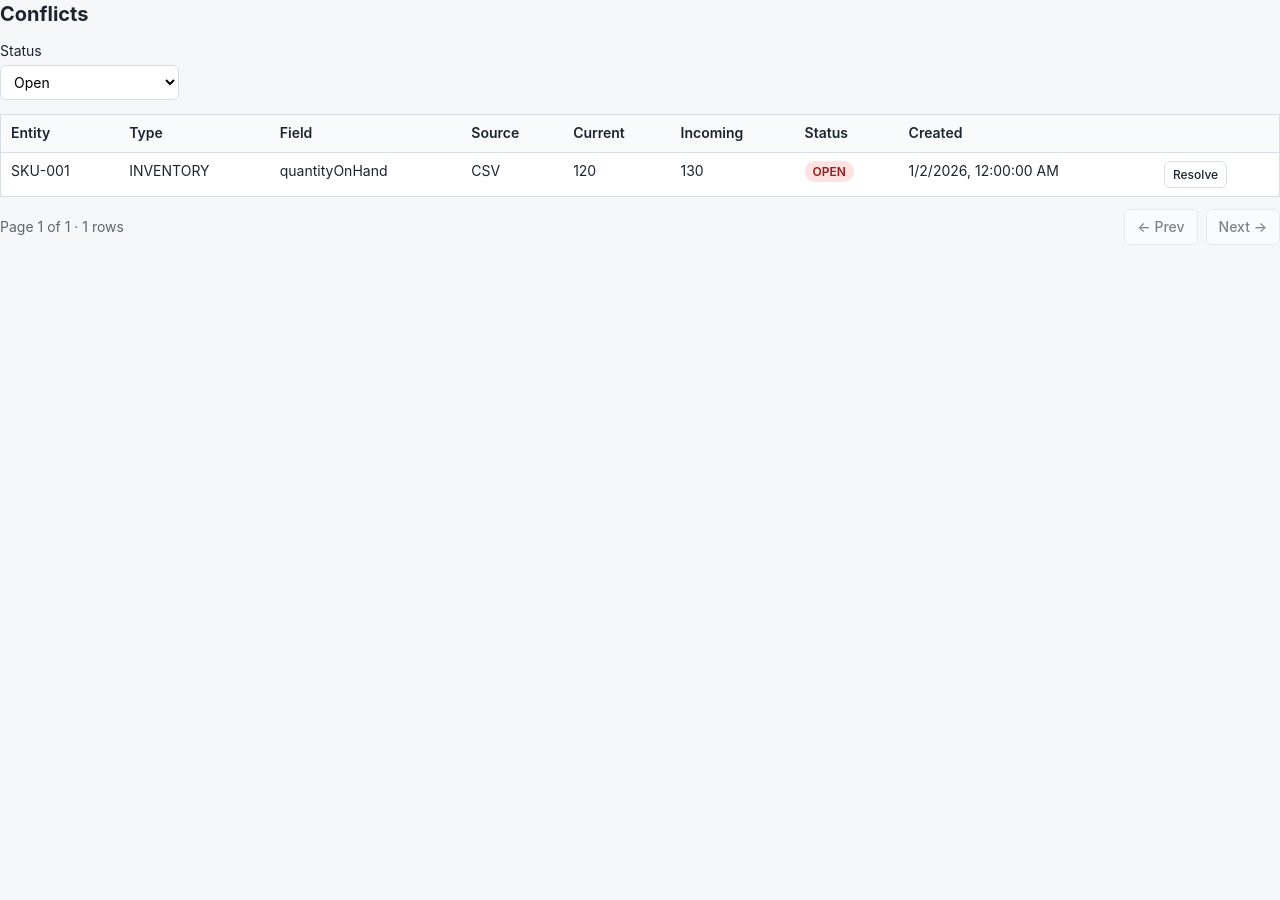
Test: Conflicts page — resolution flow › resolves an open conflict through the modal (apply incoming)
Click the button with test id "resolve-c1".
click(1196, 174)  # box [1164,161,1227,188]
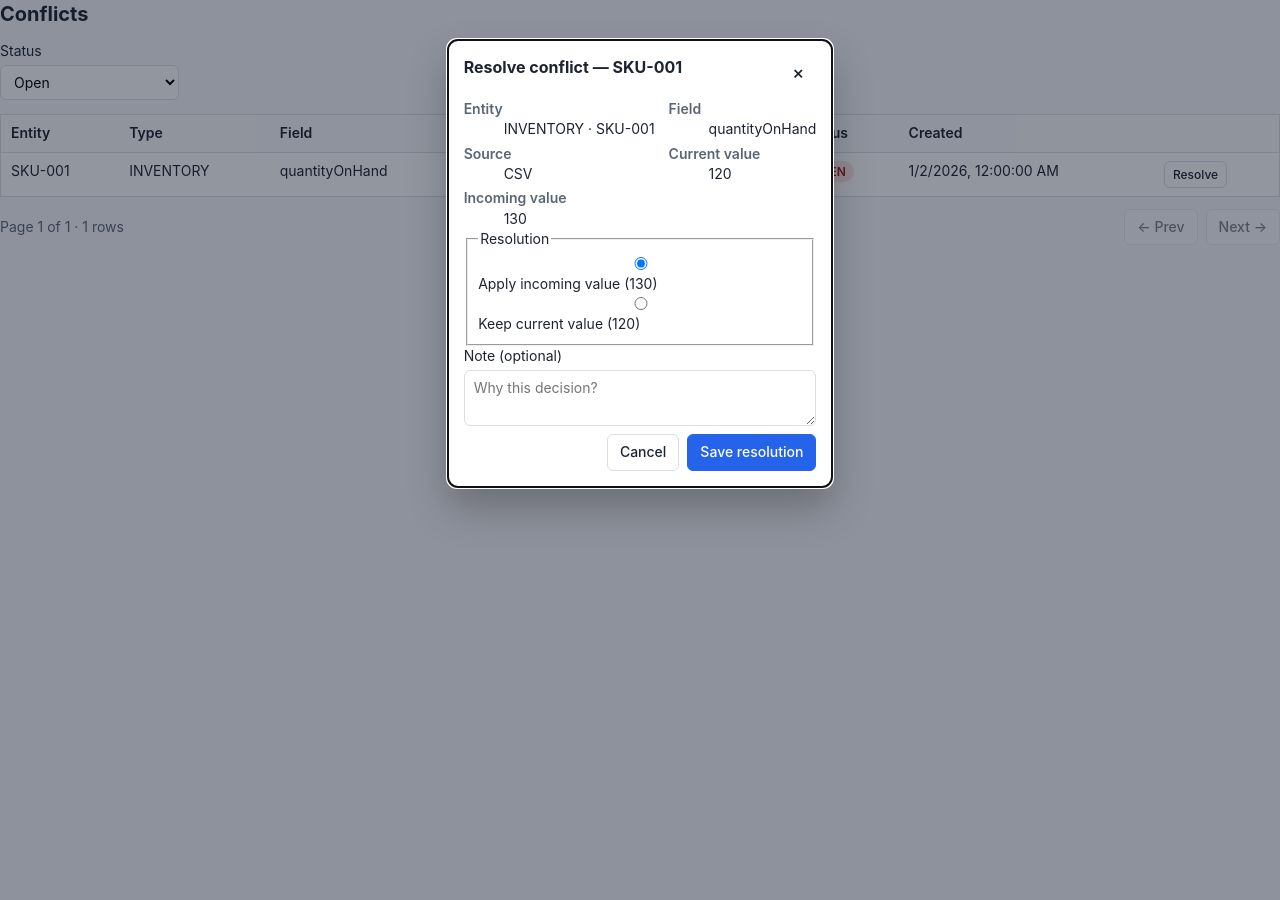
Expected: the dialog shows "SKU-001", [596,120,655,138]
Expected: the dialog shows "quantityOnHand", [709,120,816,138]
Expected: the dialog shows "130", [504,210,527,227]
Click the button with test id "resolve-submit".
click(752, 453)  # box [687,434,816,471]
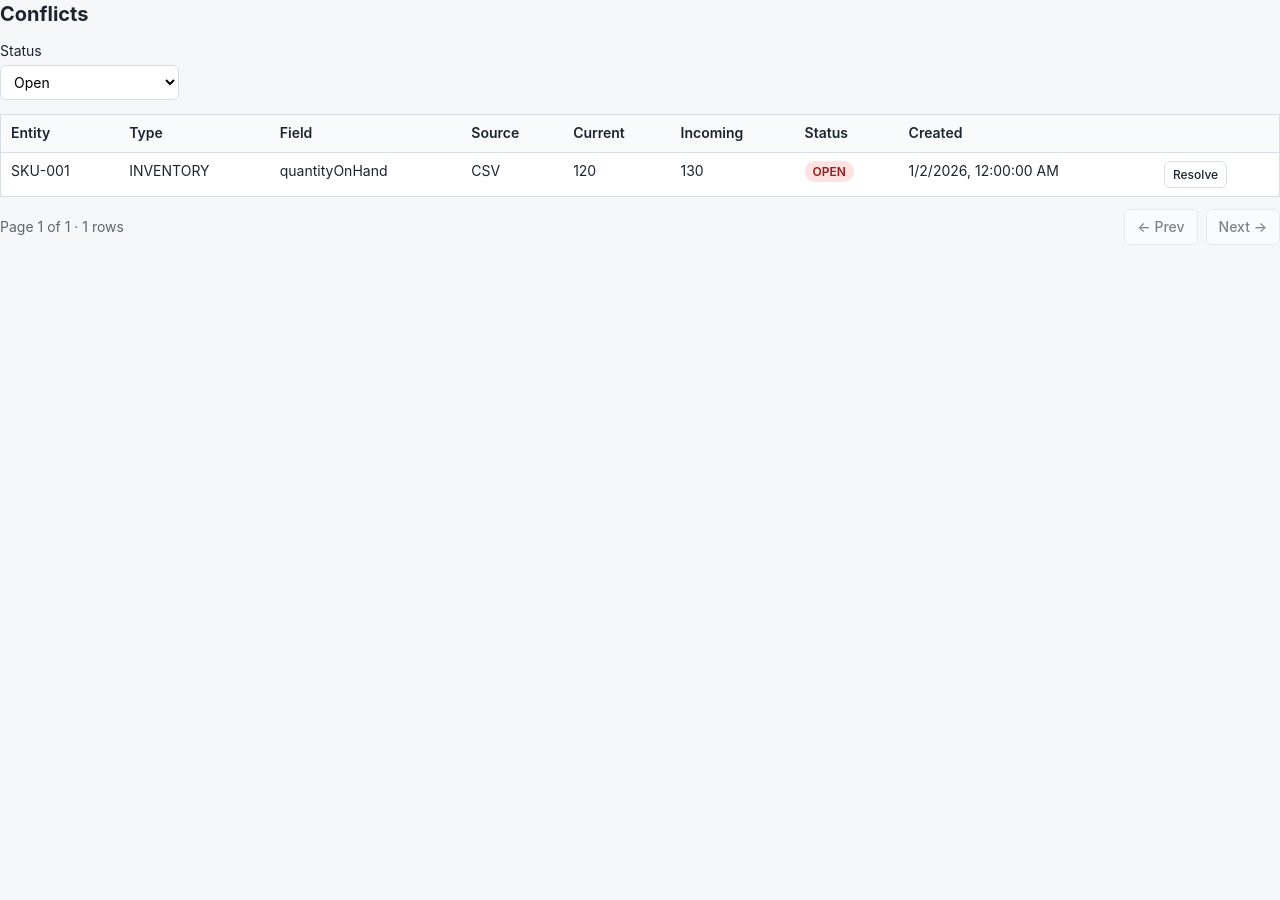
Expected: the dialog is gone
